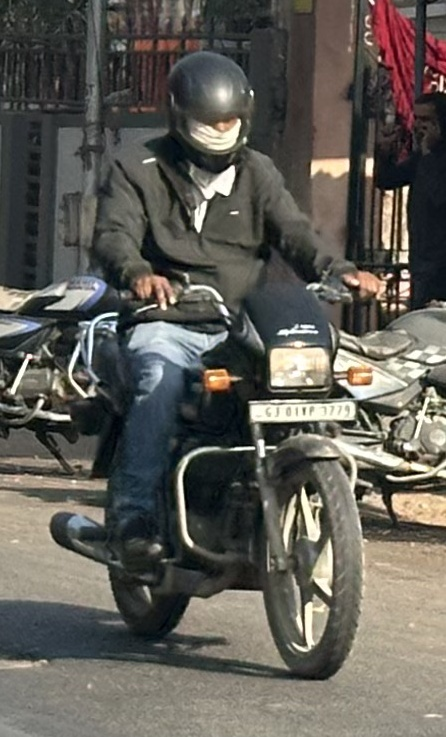BikeWithRider: (25, 43, 393, 687)
Helmet: (149, 43, 267, 175)
